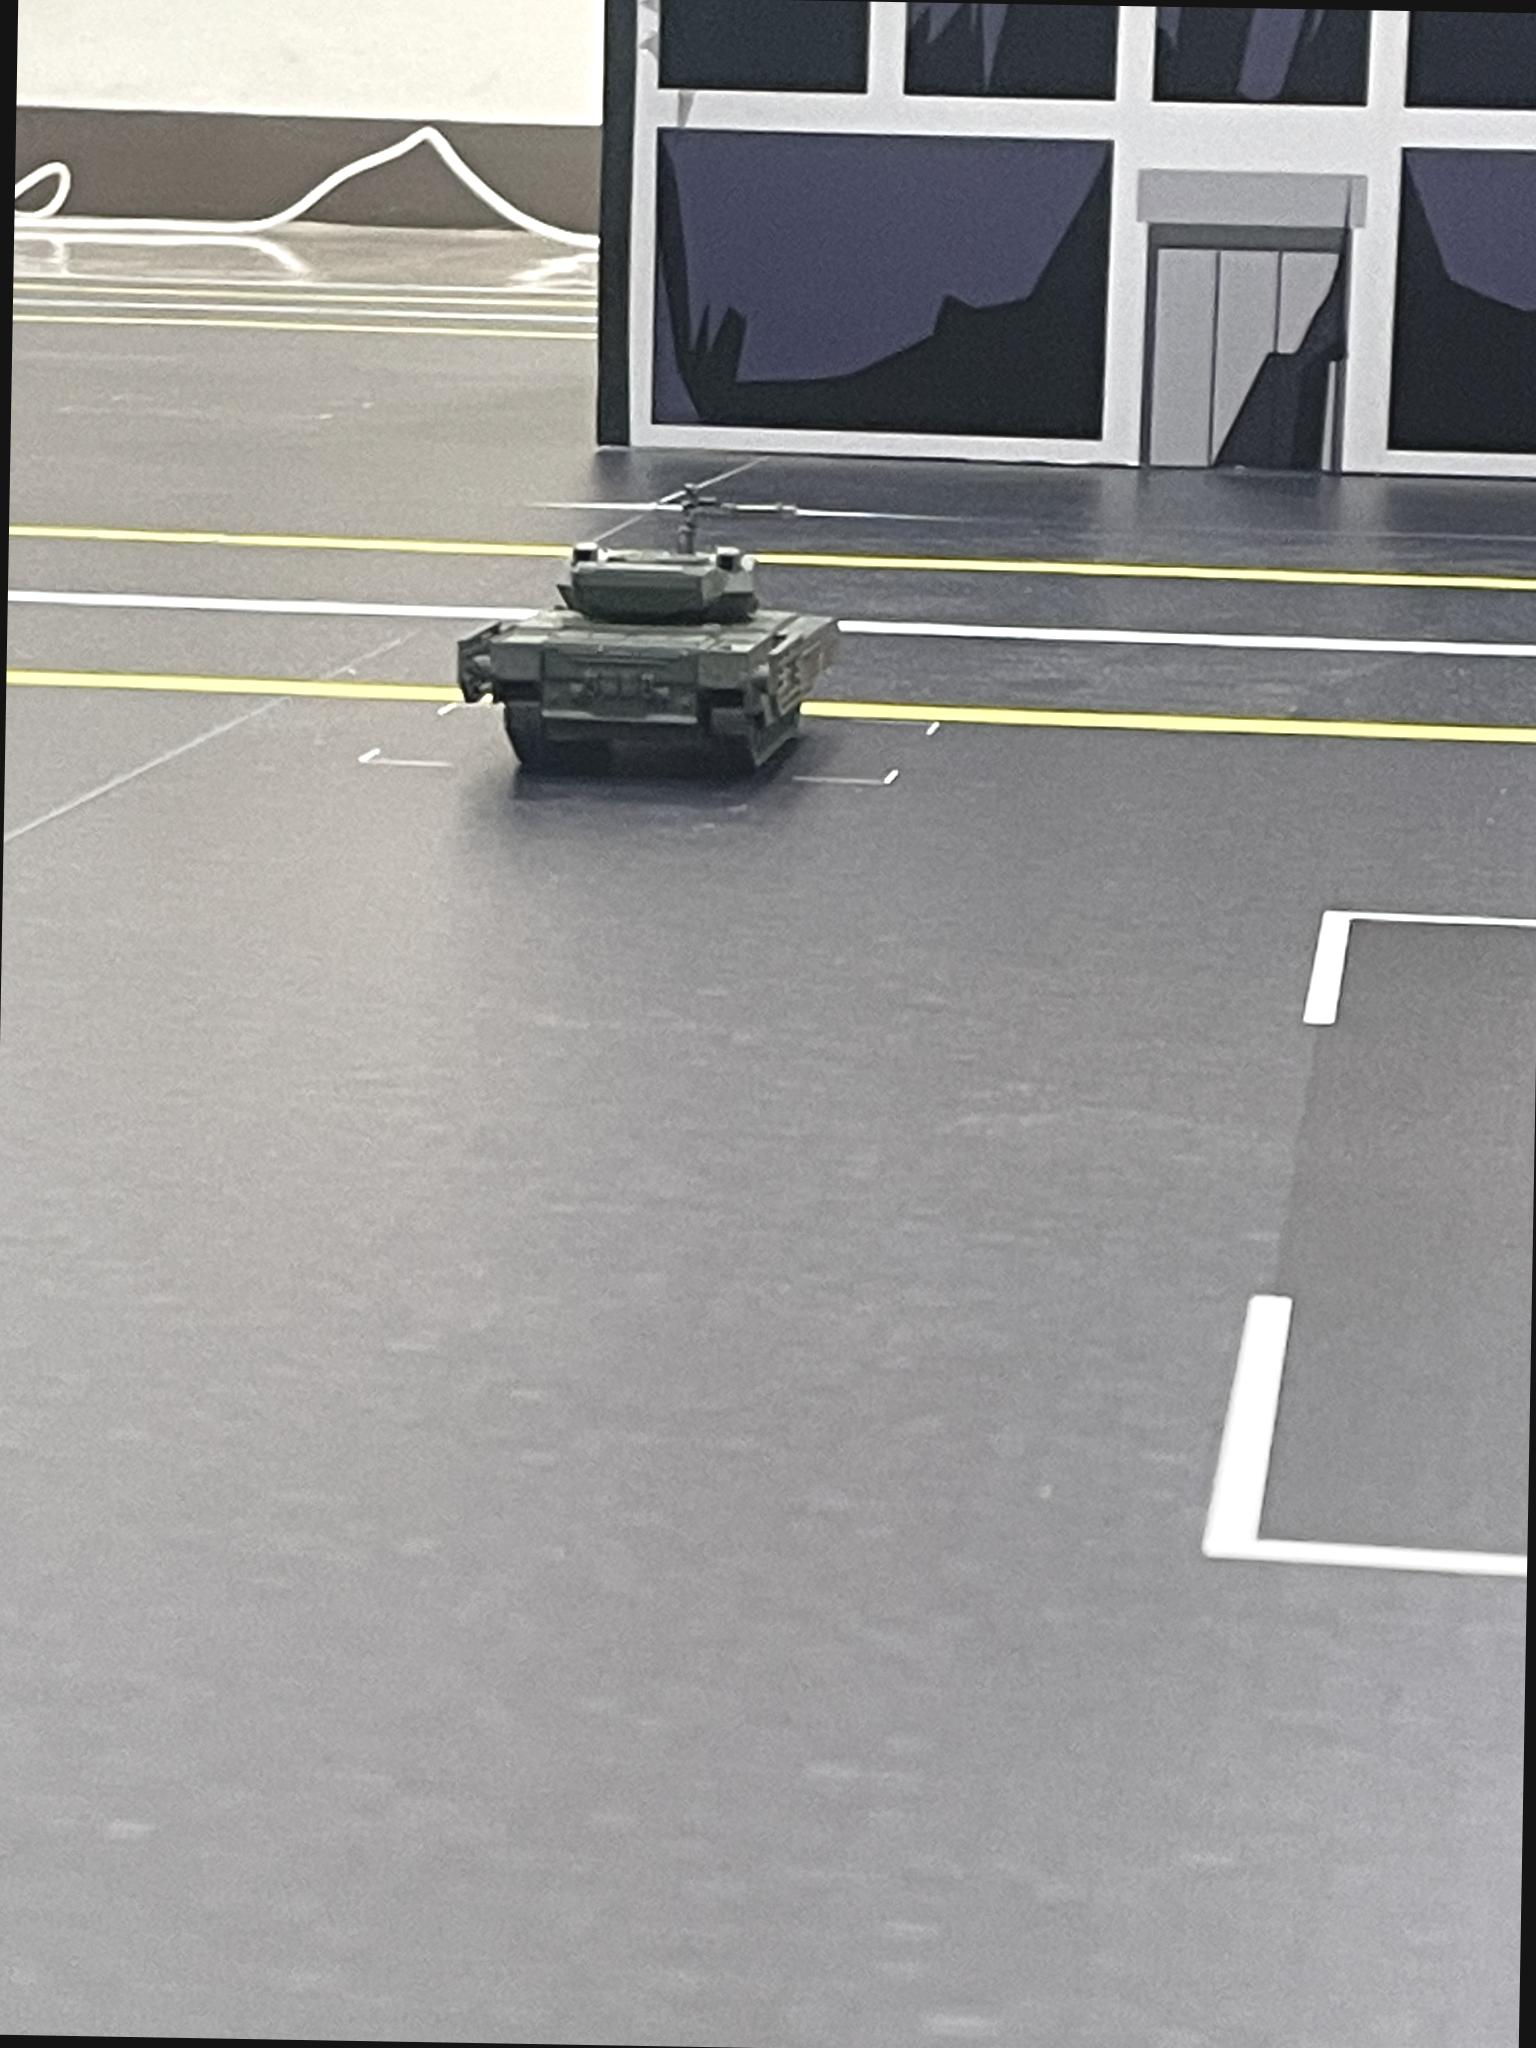Tank: (461, 513, 850, 805)
